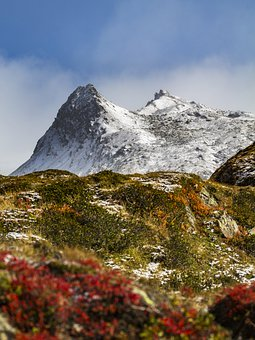field: (2, 172, 255, 268)
flower: (19, 265, 175, 340)
mountain: (52, 87, 255, 171)
sky: (2, 1, 255, 89)
